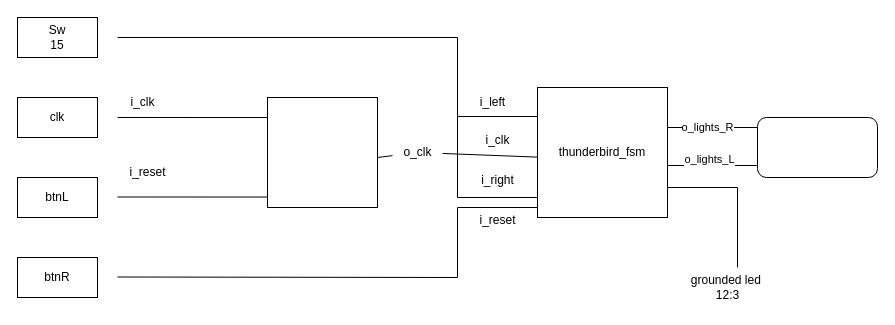
Image size: 895x325. Some labels were removed from this diagram. The box of each missing label's shape, as (x1, y1, x2, y2) in pixels:
Clock Inst: (266, 96, 378, 208)
Led Output: (756, 116, 878, 178)
